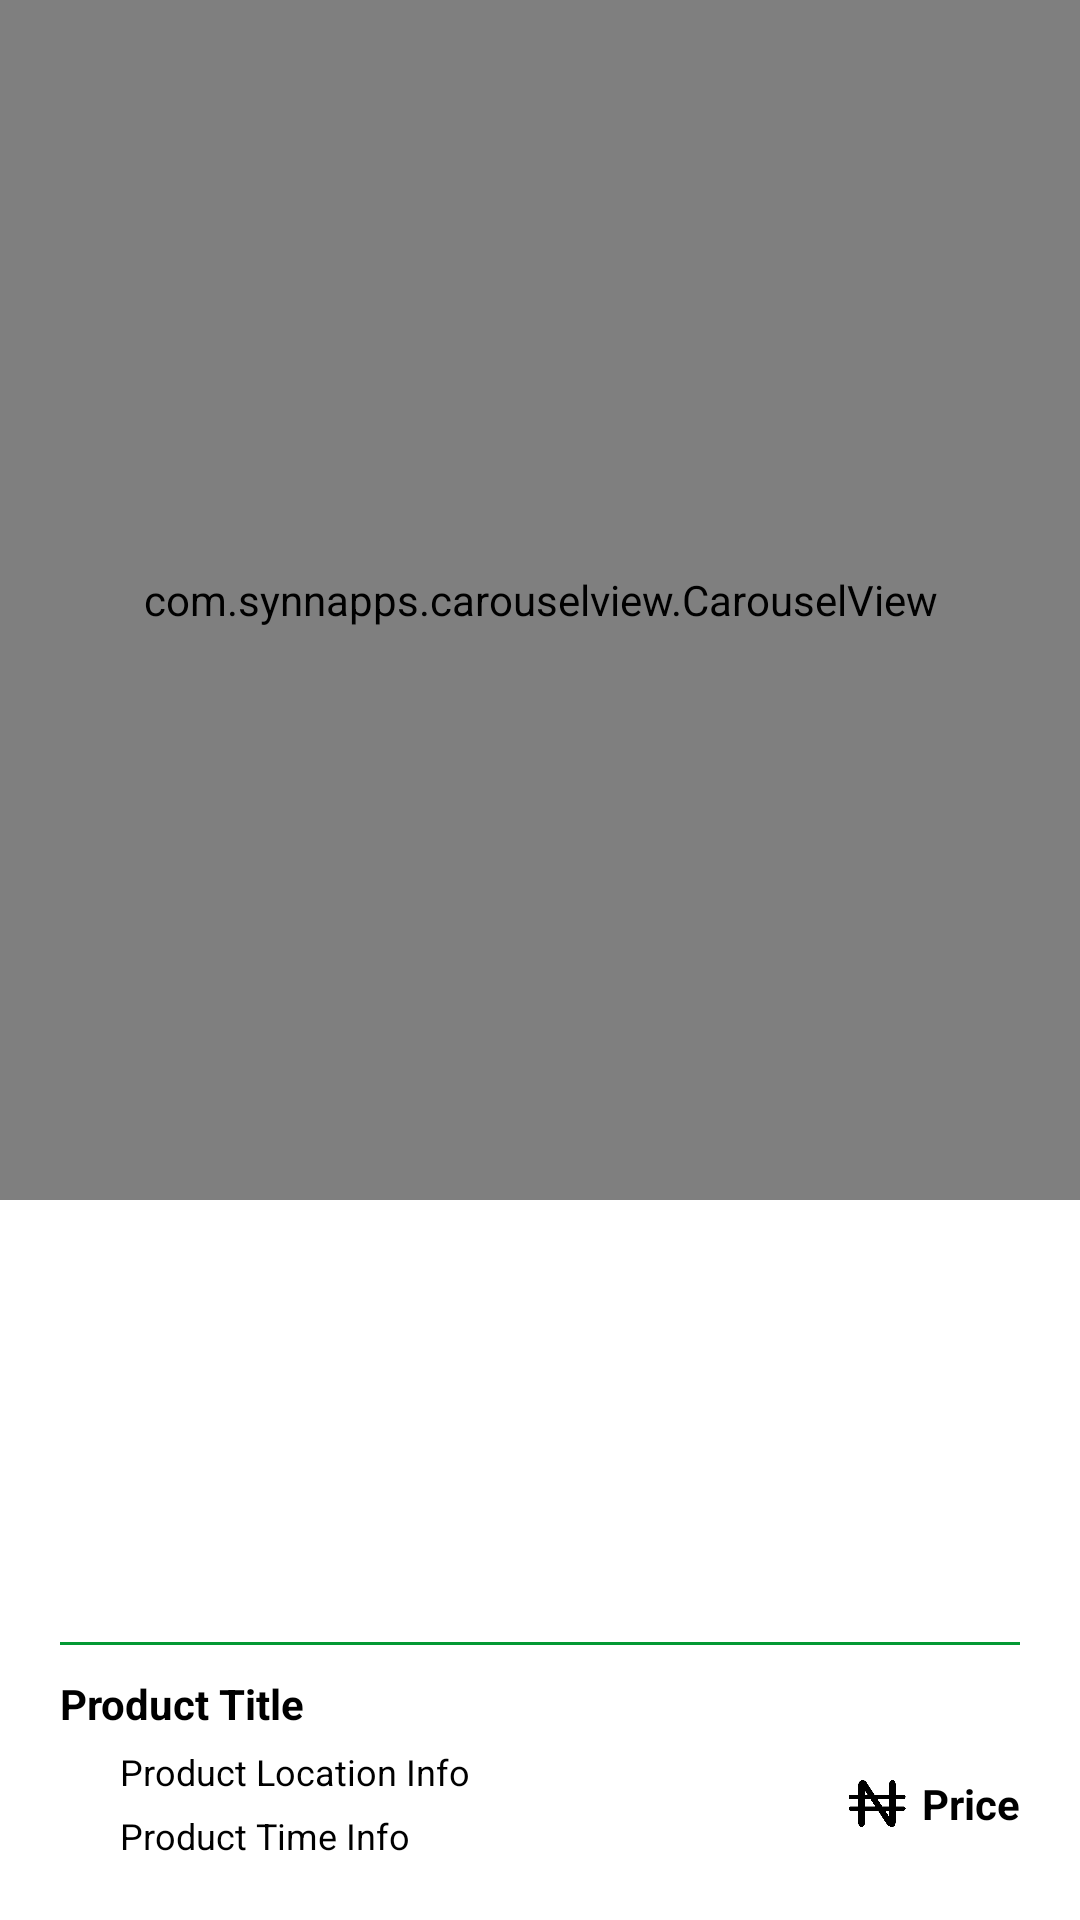

Where icons sit on this 1080*1920 app screen, as (x1=x1, y1=y1, x2=x2, y2=y2):
naira currency: (x1=849, y1=1780, x2=906, y2=1827)
